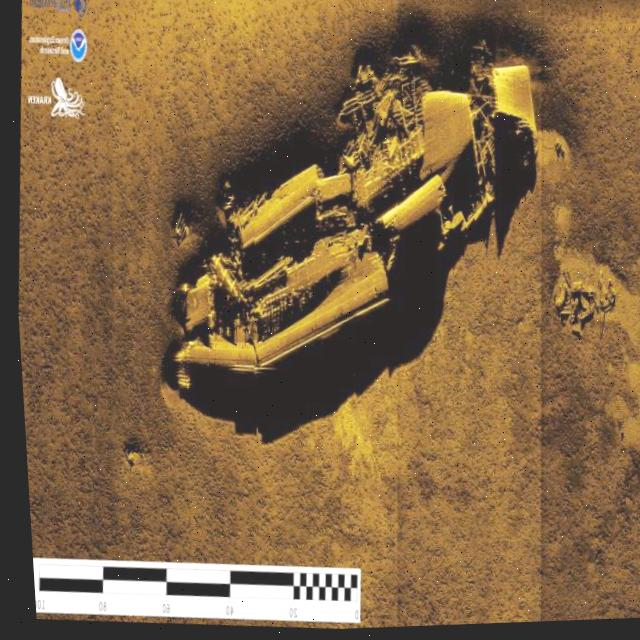shipwreck: (135, 18, 556, 462)
